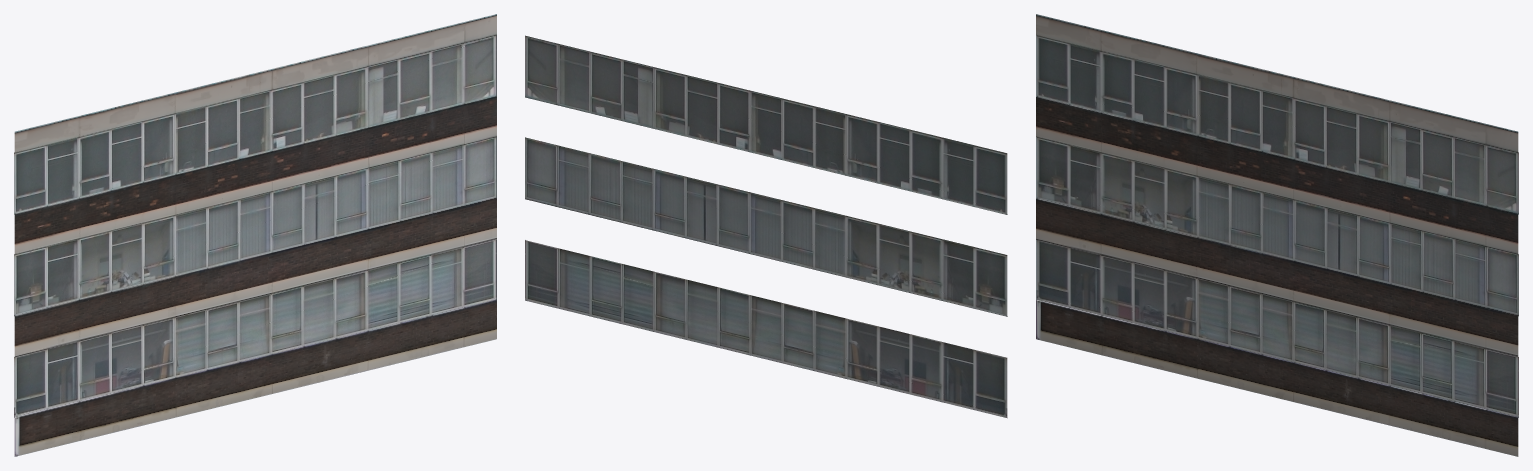
File: building_office5.glb
3 renders of one model, left to right at view 1: azimuth 30°, elevation 25°; view 2: azimuth 150°, elevation 25°; view 3: azimuth 330°, elevation 25°, orthographic.
Visible parts, largest first — view 1: building_office5; view 2: building_office5; view 3: building_office5.
Part boxes in pixels (bbox=[...]): building_office5: bbox=[14, 14, 496, 456]; building_office5: bbox=[525, 35, 1007, 418]; building_office5: bbox=[1036, 14, 1518, 456].
Bounding box in the file's own units: 5 × 3.22 × 0.00972.
Materials: 2 (2 with a texture image).
